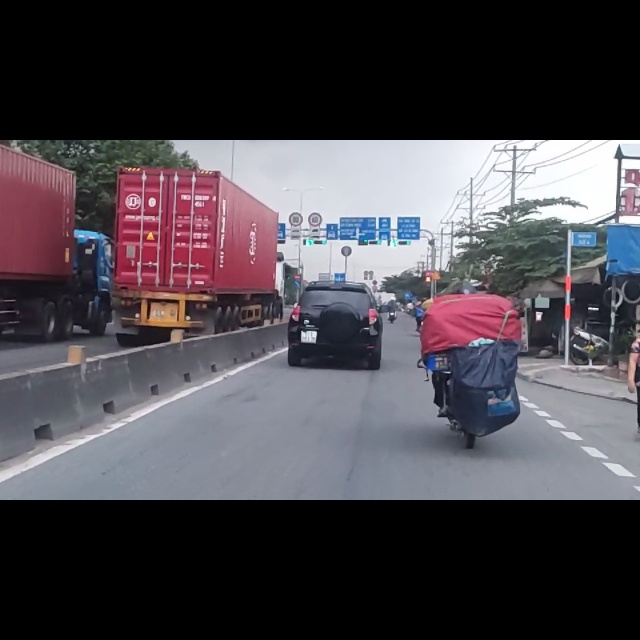bien_nguy_hiem: (307, 128, 323, 156), (289, 128, 303, 153), (294, 250, 301, 262), (294, 238, 301, 249)
